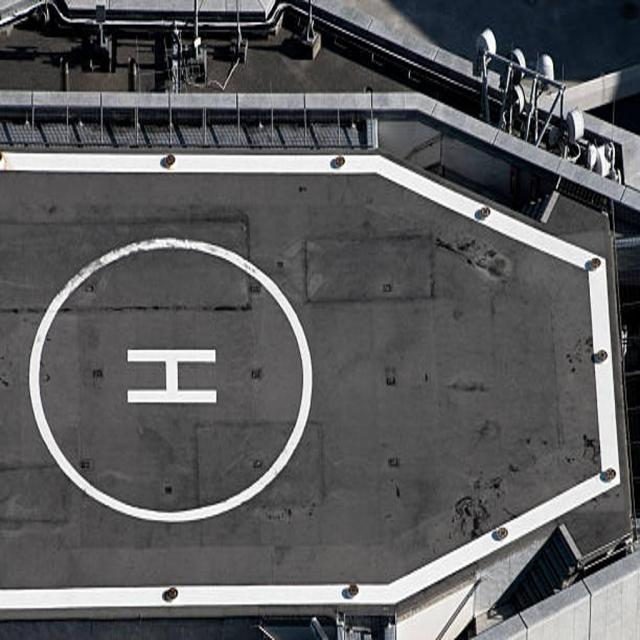helipad: (25, 234, 314, 524)
